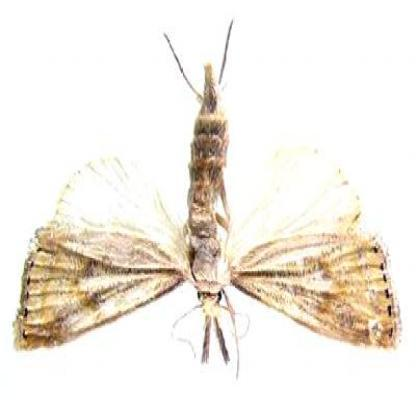stem-borer: (13, 20, 400, 380)
